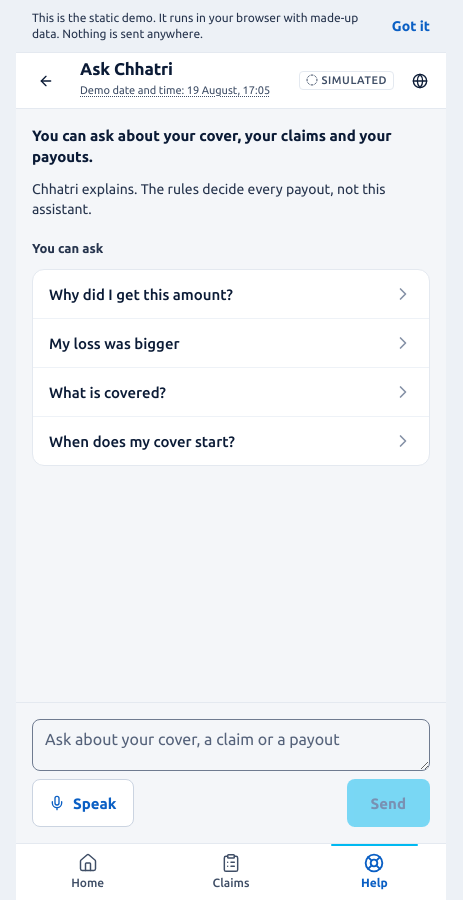
Test: Ask Chhatri: states › says there is a connection problem when the network fails
In the text box with test id "ask-input": (231, 745) [32, 719, 430, 771], type "hello"
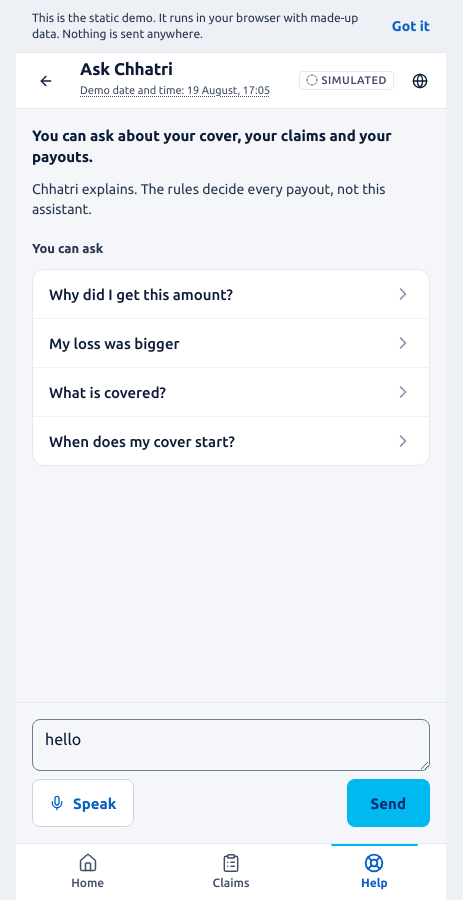
Click the button with test id "ask-send": click(388, 803) [347, 779, 430, 827]
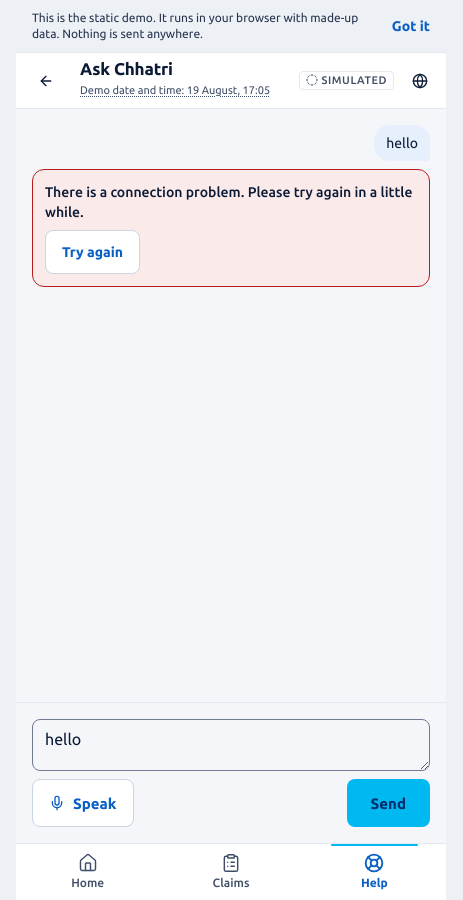
Expected: the message with test id "ask-failed" shows "There is a connection problem.", [45, 184, 412, 220]
